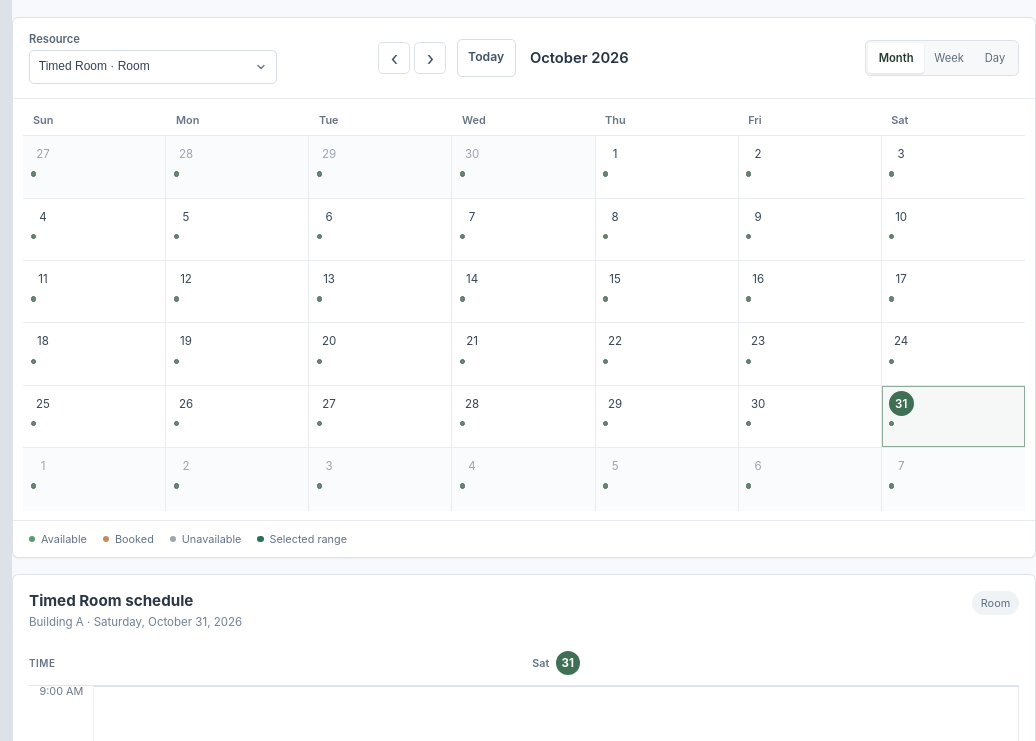
ResourcesPage reservation form › updates the visible reservation fields when the selected resource changes
The image size is (1036, 741).
Select "All Day Hall · Room" in the dropdown labelled "Resource". click: (153, 67)
box: [29,50,277,84]
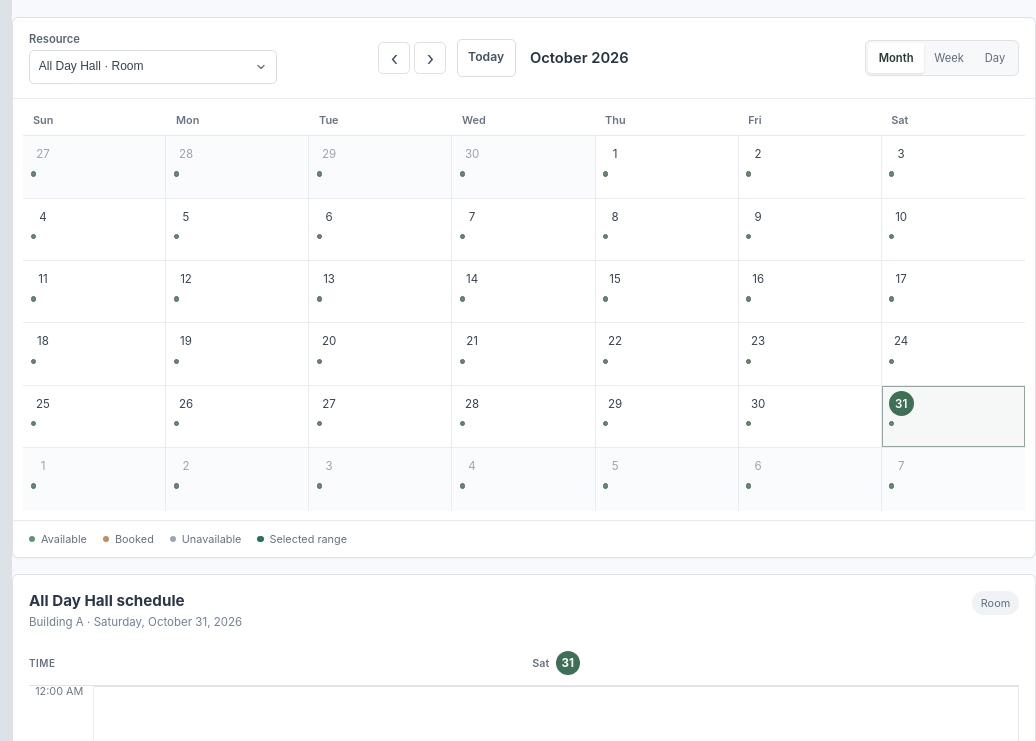
Select "Timed Room · Room" in the dropdown labelled "Resource". click: (153, 67)
box: [29,50,277,84]
(page scrolled)
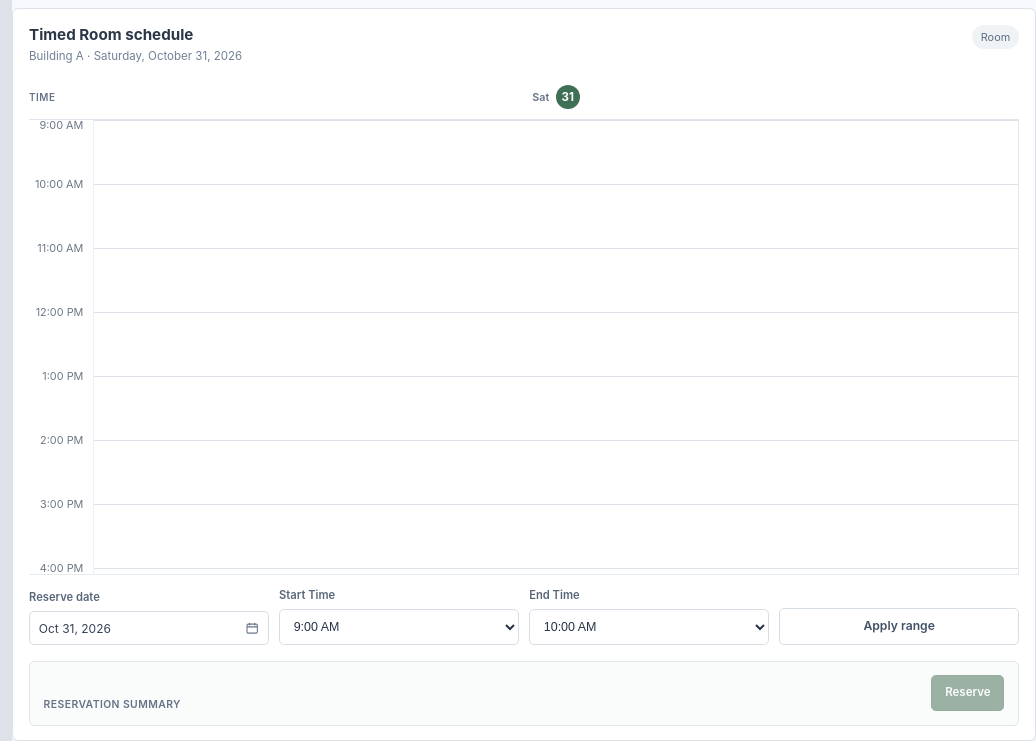
Check: the button with aria-label "Reserve date" is shown, box [29,611,269,645]
Check: the dropdown labelled "Start Time" is shown, box [279,609,519,645]
Check: the dropdown labelled "End Time" is shown, box [529,609,769,645]
